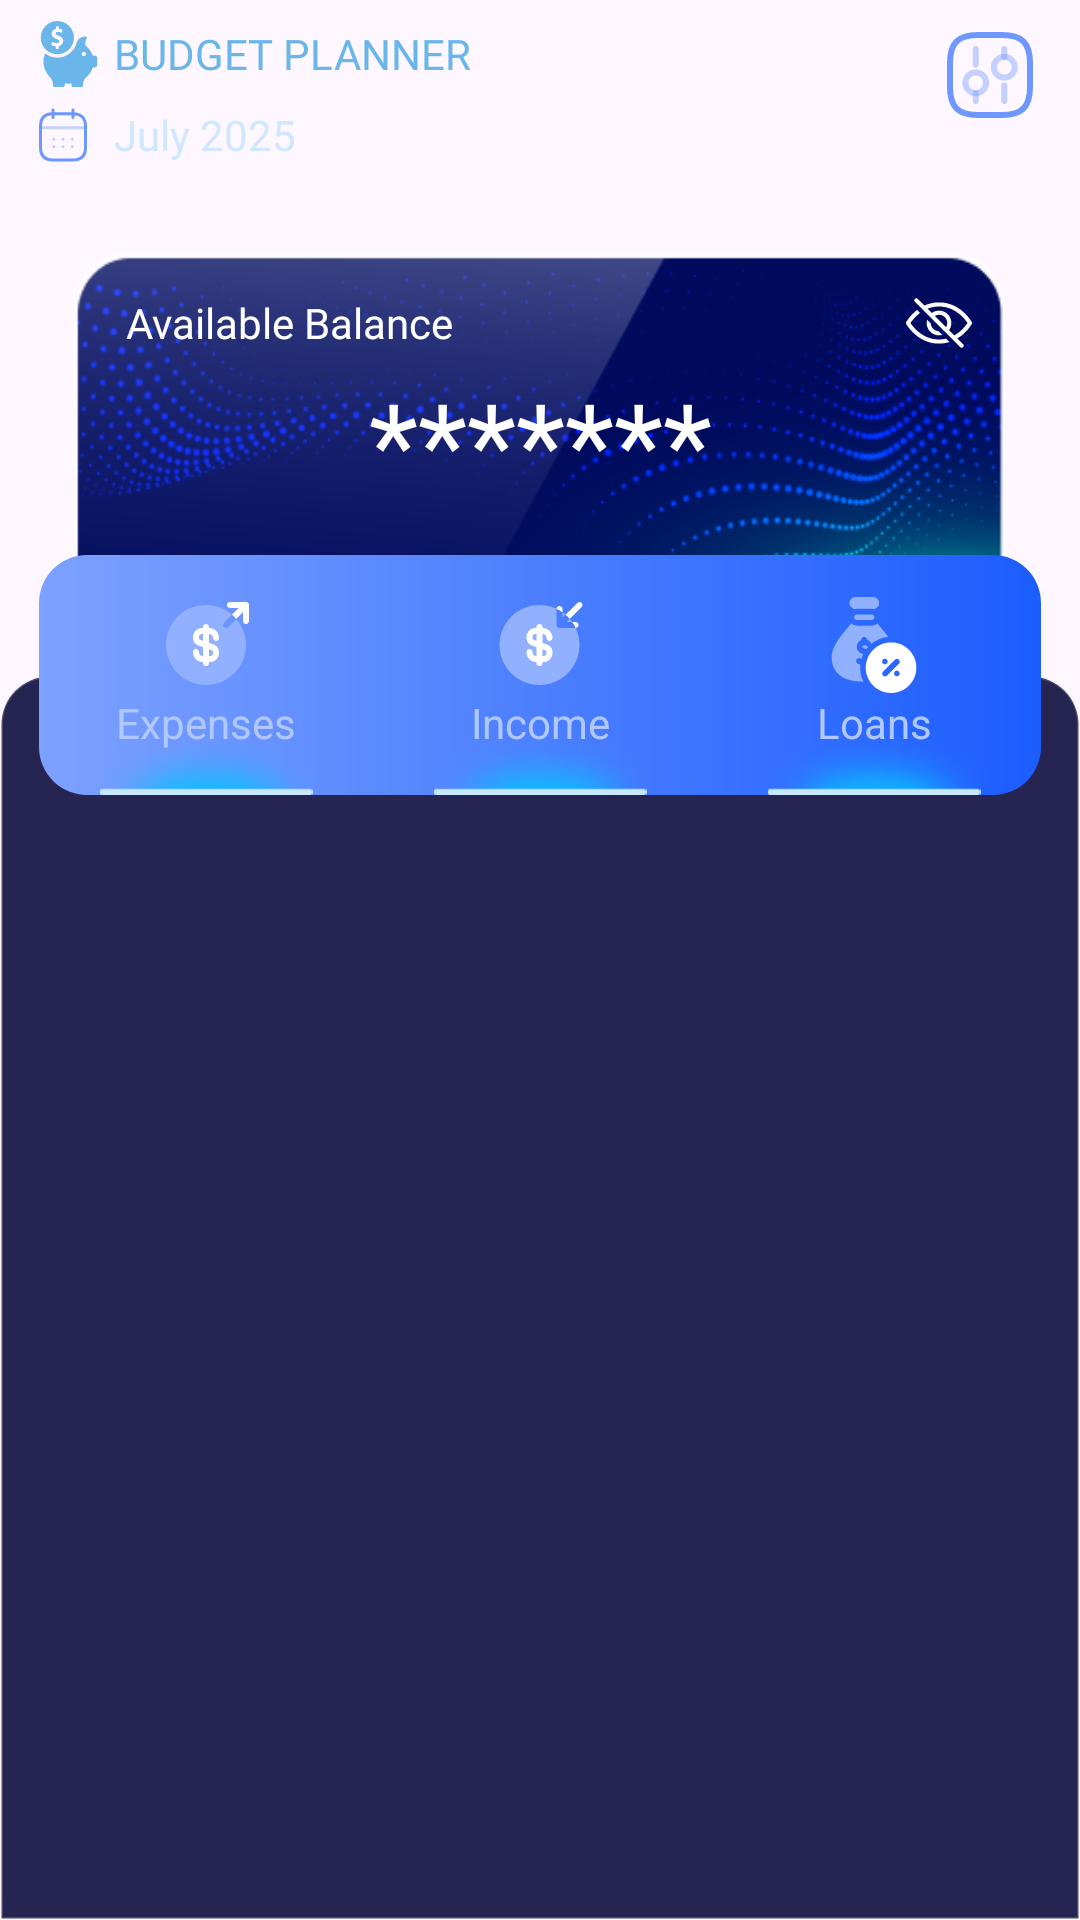

Where icons sit on this 1080*1920 app screen, as [left=x1, top=y1, right=x2, bottom=y2]:
setting: [left=947, top=32, right=1033, bottom=118]
